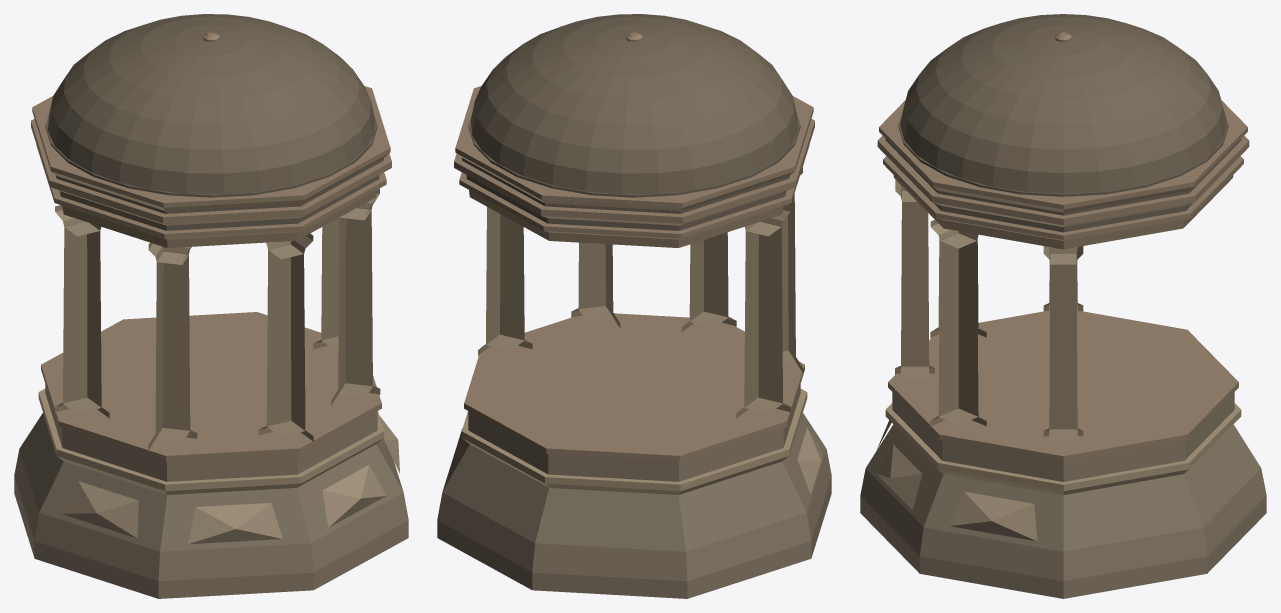
The model's file is huangpu-taichang-furniture-rooftop-lantern-lod.glb.
The picture shows the model from 3 angles, left to right: view 1: azimuth 30°, elevation 25°; view 2: azimuth 150°, elevation 25°; view 3: azimuth 270°, elevation 25°; orthographic projection.
Parts seen in each view (by area): view 1: 泰昌木器公司转角屋顶亭的穹顶与叠檐; view 2: 泰昌木器公司转角屋顶亭的穹顶与叠檐; view 3: 泰昌木器公司转角屋顶亭的穹顶与叠檐.
Part boxes in pixels (x1=…): 泰昌木器公司转角屋顶亭的穹顶与叠檐: x1=14, y1=14, x2=408, y2=598; 泰昌木器公司转角屋顶亭的穹顶与叠檐: x1=437, y1=14, x2=831, y2=598; 泰昌木器公司转角屋顶亭的穹顶与叠檐: x1=860, y1=14, x2=1266, y2=598.
Bounding box in the file's own units: 2.3 × 2.99 × 2.3.
